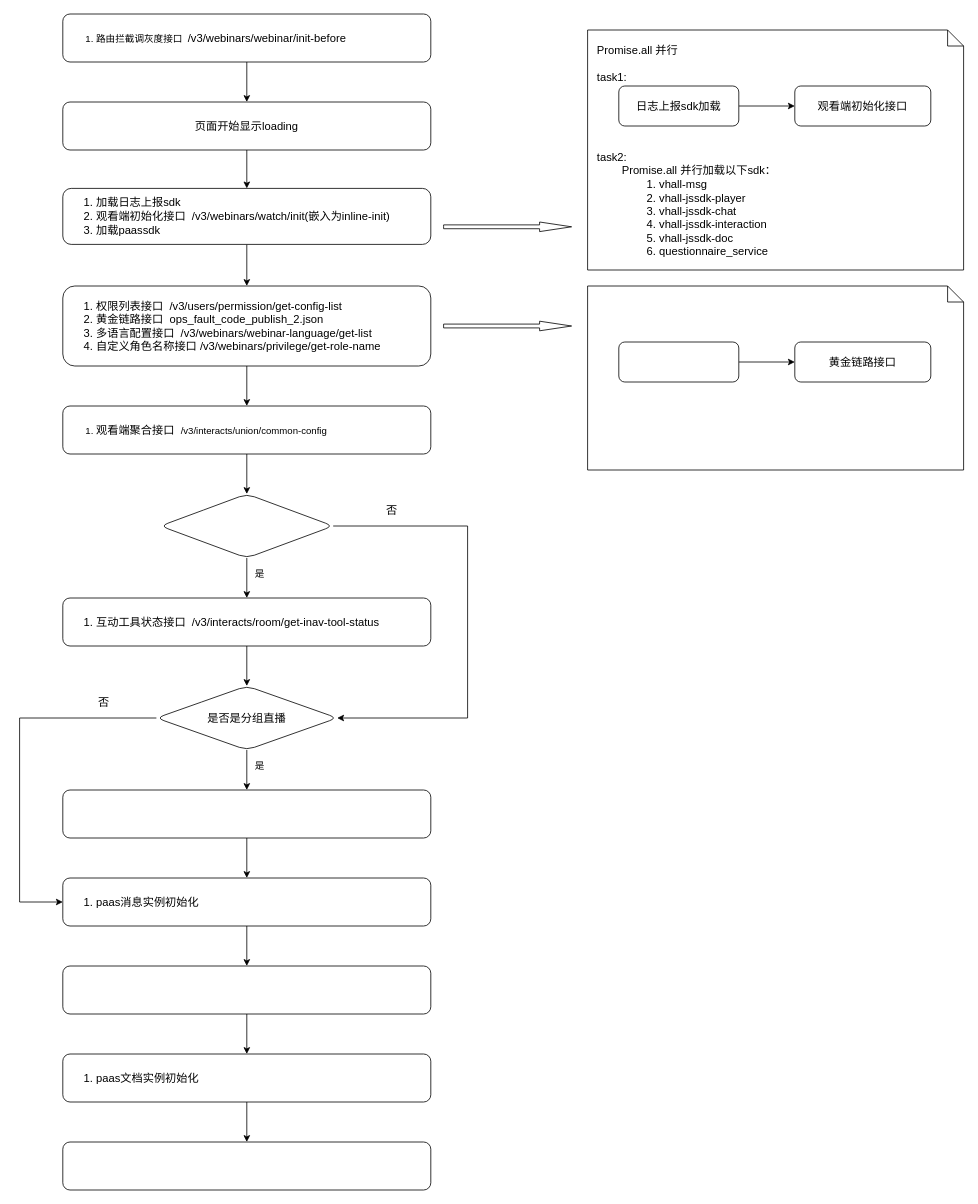
Image size: 978x1204. Some labels were removed from this diagram. The shapes that lost their labels are listed below. From the top down, each one's box as (x1, y1, x2, y2) in pixels, then its label:
(618, 341, 739, 382): 权限列表接口
(587, 285, 964, 470): Promise.all 并行 task1: task2: 多语言配置接口 task3: 自定义角色名称接口
(160, 493, 333, 558): 是否是回放状态
(62, 789, 431, 838): 分组信息初始化接口 /v3/interacts/group/init
(62, 965, 431, 1014): paas互动实例初始化（如果是上麦状态或者是无延迟直播或者是分组直播）
(62, 1141, 431, 1190): 页面loading结束，开始渲染页面
